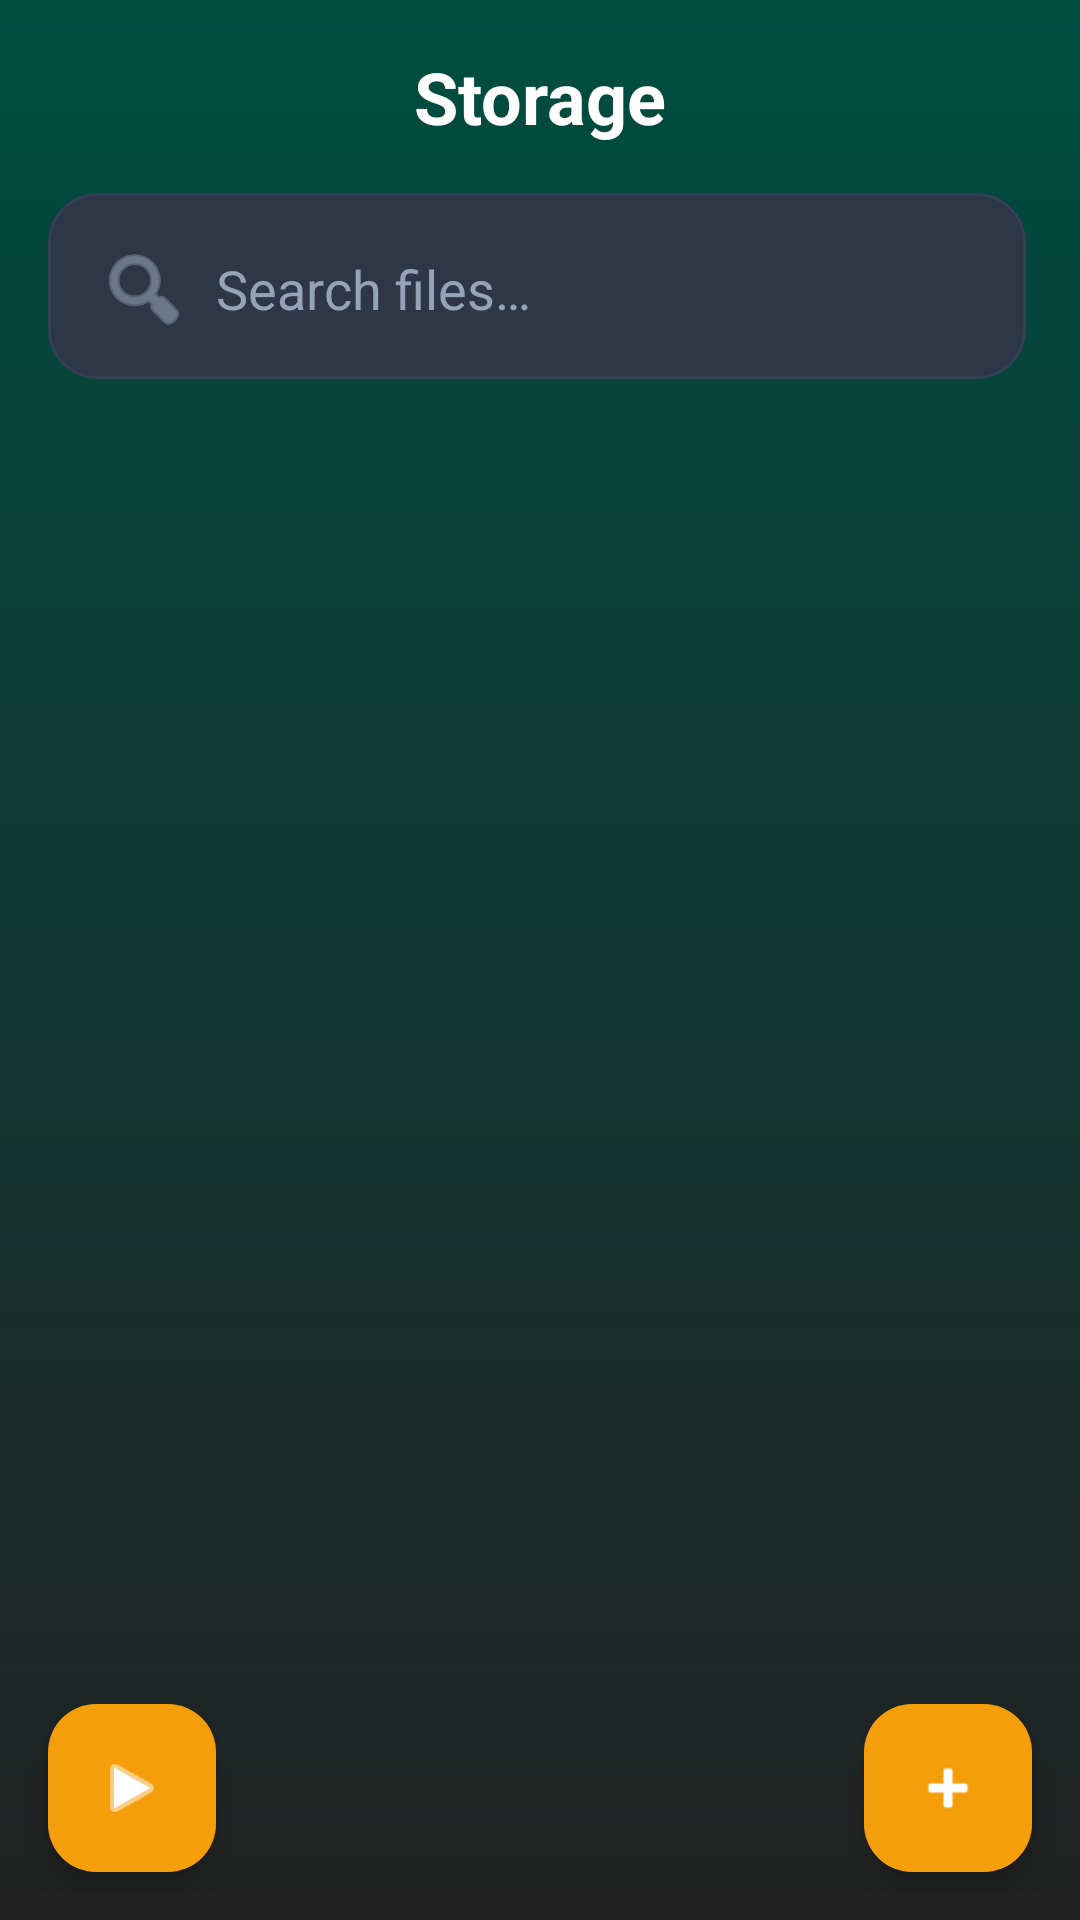

Named icons in this screenshot (1080 x 1920) and their centers, [x,y]:
add: [948,1788]
play: [132,1788]
